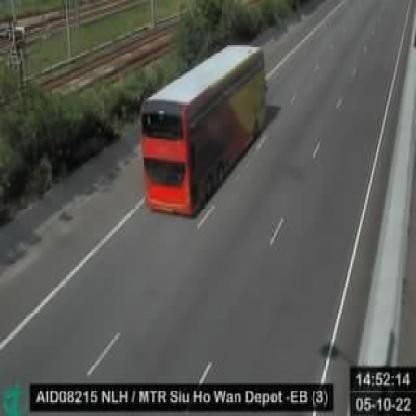Bus: (141, 45, 266, 212)
